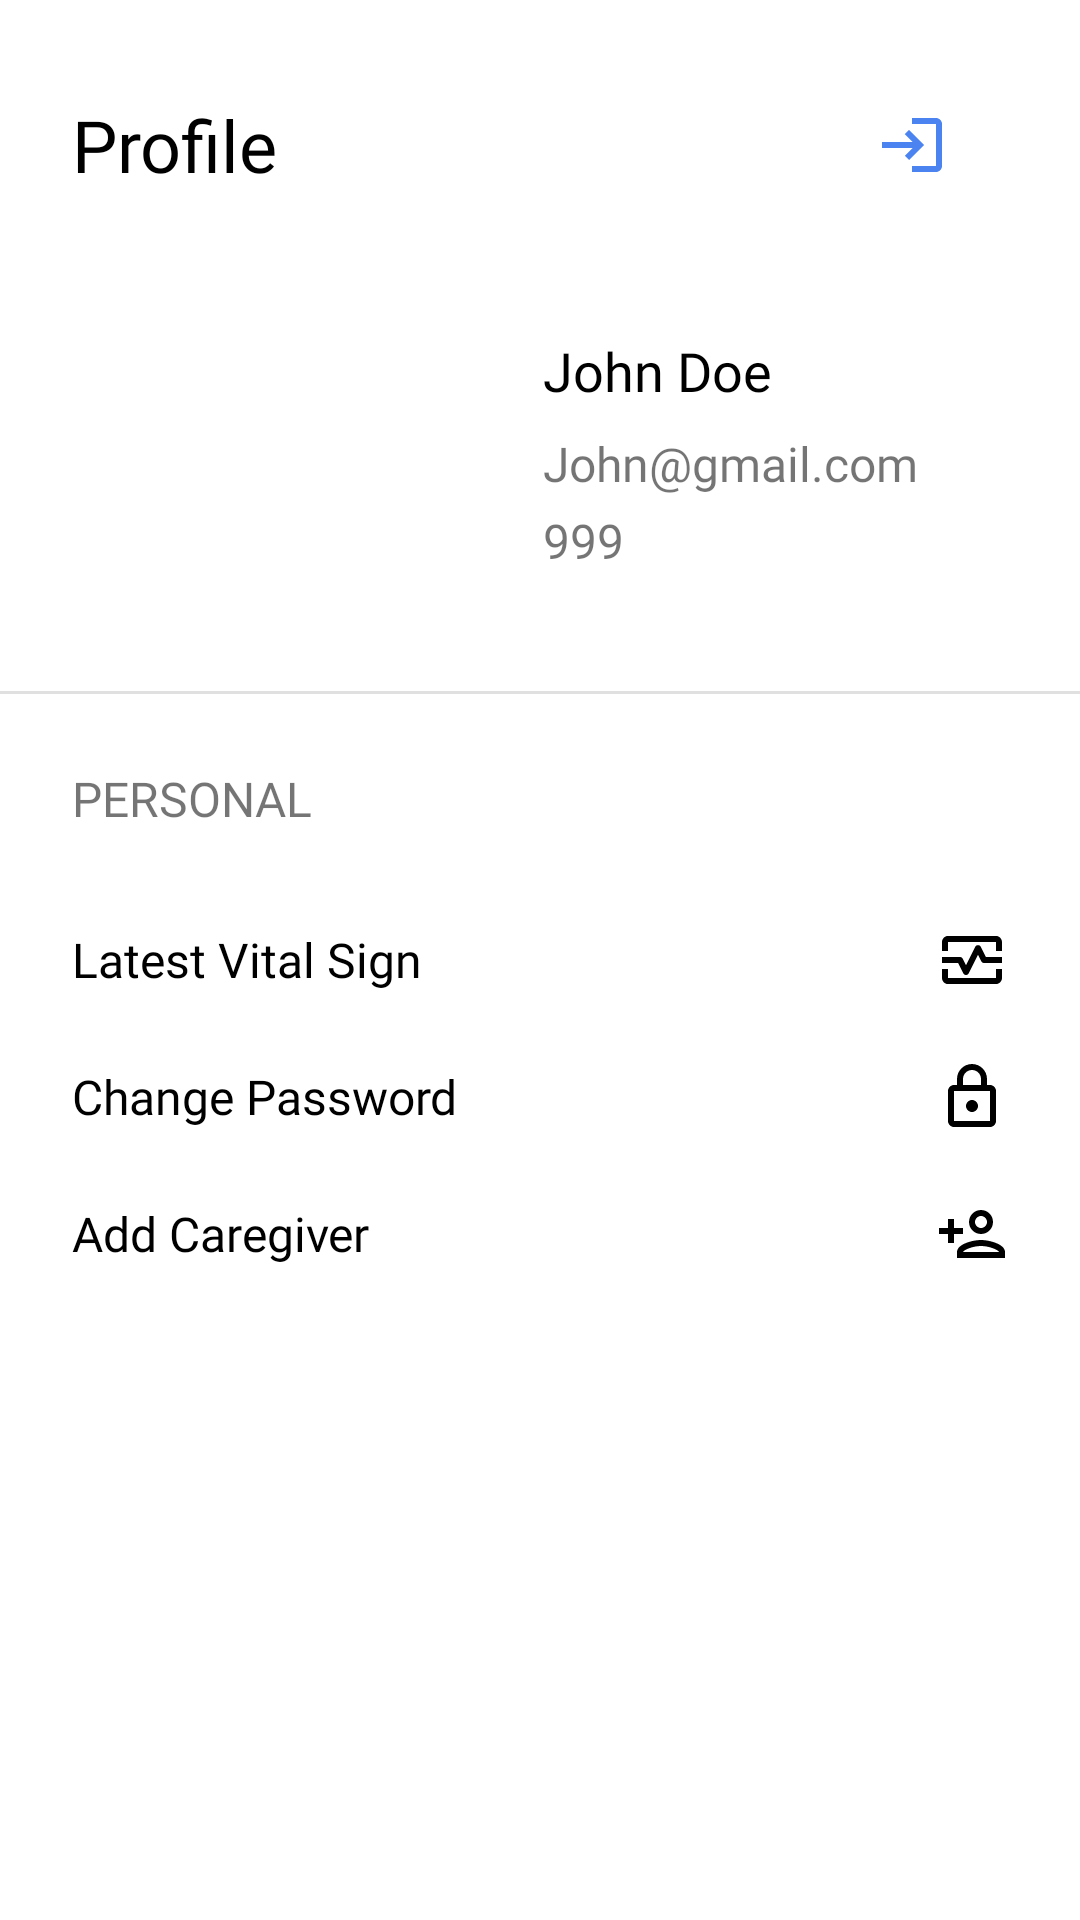

Icon bounding boxes for this 1080 × 1920 phone screenshot, format (x1, y1, x2, y2):
lock: (948, 1064, 996, 1127)
login: (882, 118, 942, 172)
monitor heart: (942, 936, 1002, 984)
person add: (939, 1210, 1005, 1258)
